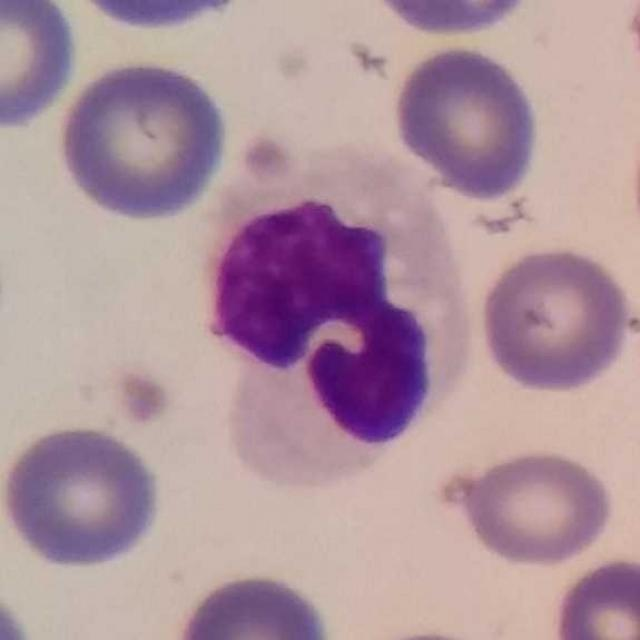Monocyte: (196, 147, 485, 493)
Platelets: (110, 365, 175, 427)
RBC: (52, 54, 233, 225), (0, 420, 168, 573), (389, 40, 542, 204), (475, 242, 636, 396), (437, 443, 620, 570), (165, 567, 338, 640), (0, 0, 82, 132), (548, 554, 640, 639), (361, 0, 544, 40), (82, 0, 237, 34)
